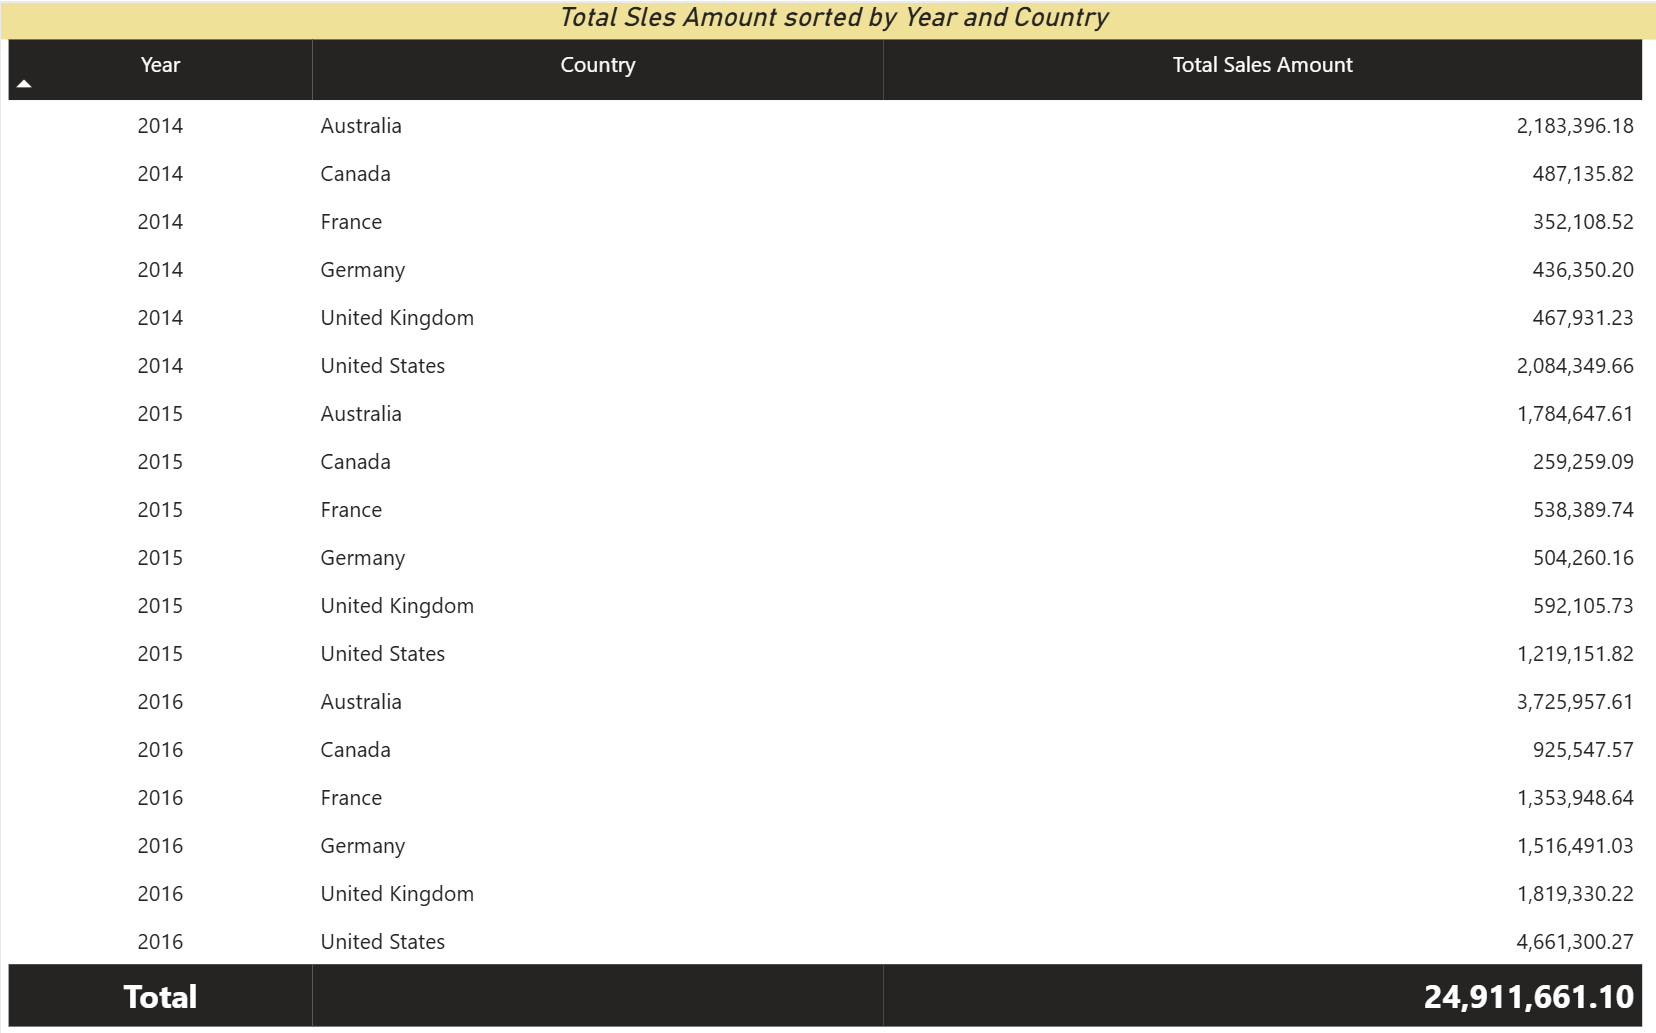

The page's visual inventory and layout, read from the dashboard file:
{"tool":"powerbi","page":{"name":"Table","canvas":[1280,720],"ordinal":4},"visuals":[{"type":"tableEx","title":"Total Sles Amount sorted by Year and Country","fields":{"Values":["Calendar.Year","Territories.Country","Sales.Total Sales Amount"]},"box":[114.1,60,1042,660],"z":0}]}

Visuals, with their boxes on the page's 1280x720 design canvas (x1, y1, x2, y2). These are canvas units, not pixel positions in the 1656x1033 screenshot, which may show the page scaled, cropped or inside an application window:
"Total Sles Amount sorted by Year and Country" tableEx: bbox=(114, 60, 1156, 720)
